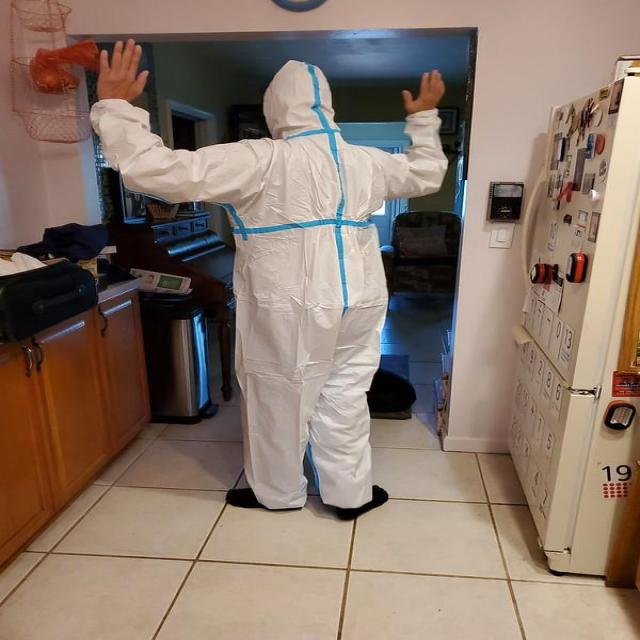Coverall: (90, 56, 480, 520)
